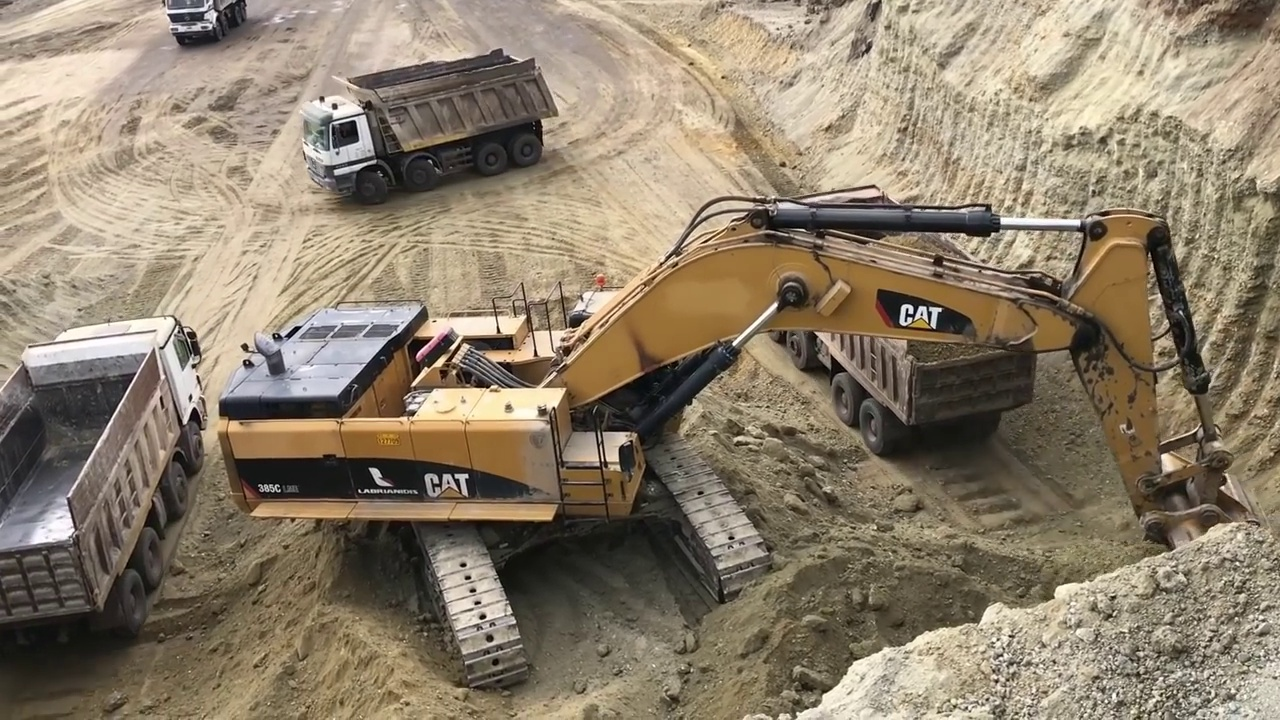excavator: (216, 179, 1270, 683)
truck: (763, 175, 1034, 455), (3, 314, 207, 643), (301, 47, 560, 201), (159, 1, 253, 41)
